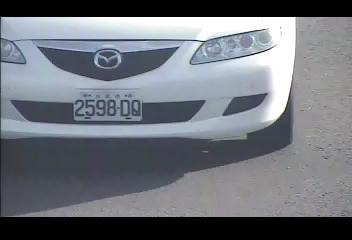plate: (71, 89, 143, 122)
